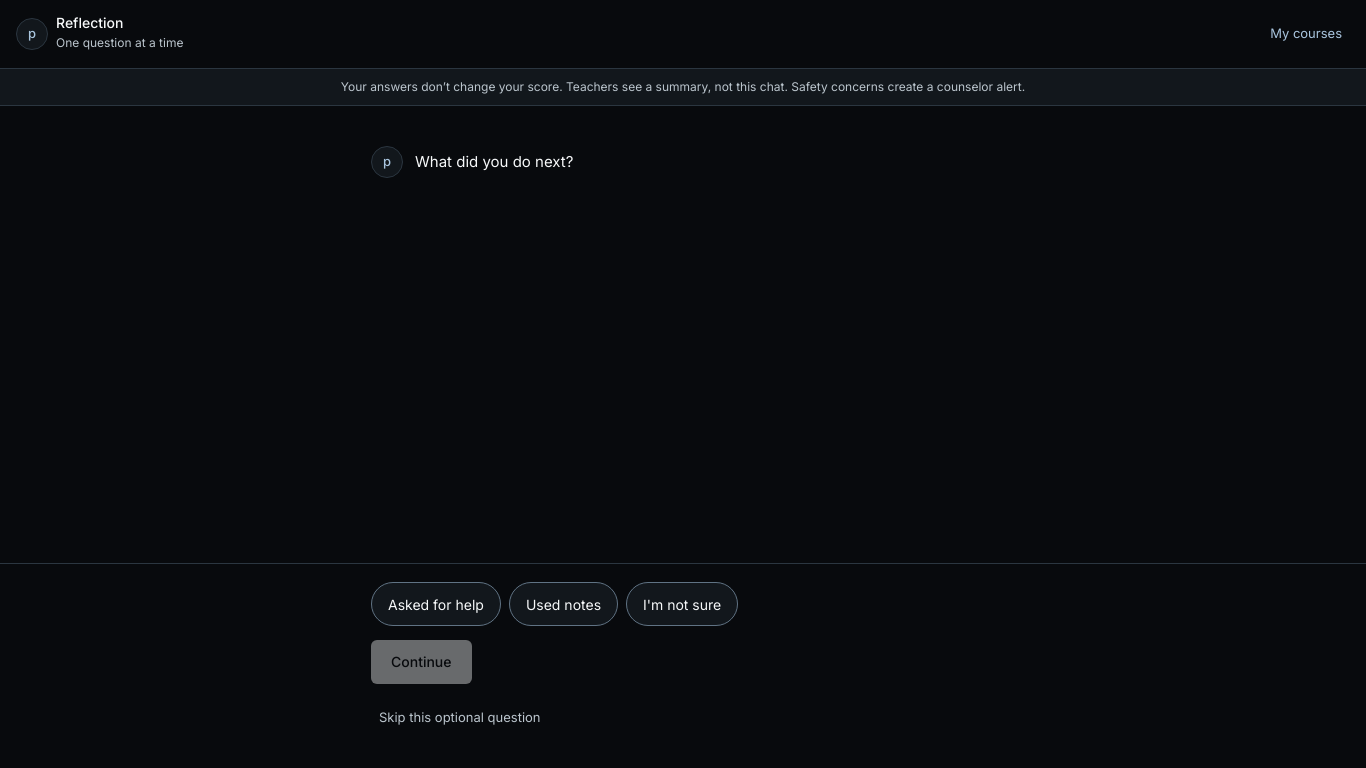
Test case: ChatFlow › supports multi-select and submits the chosen observations together
Click the button "Asked for help" at (436, 604), box [371,582,501,626]
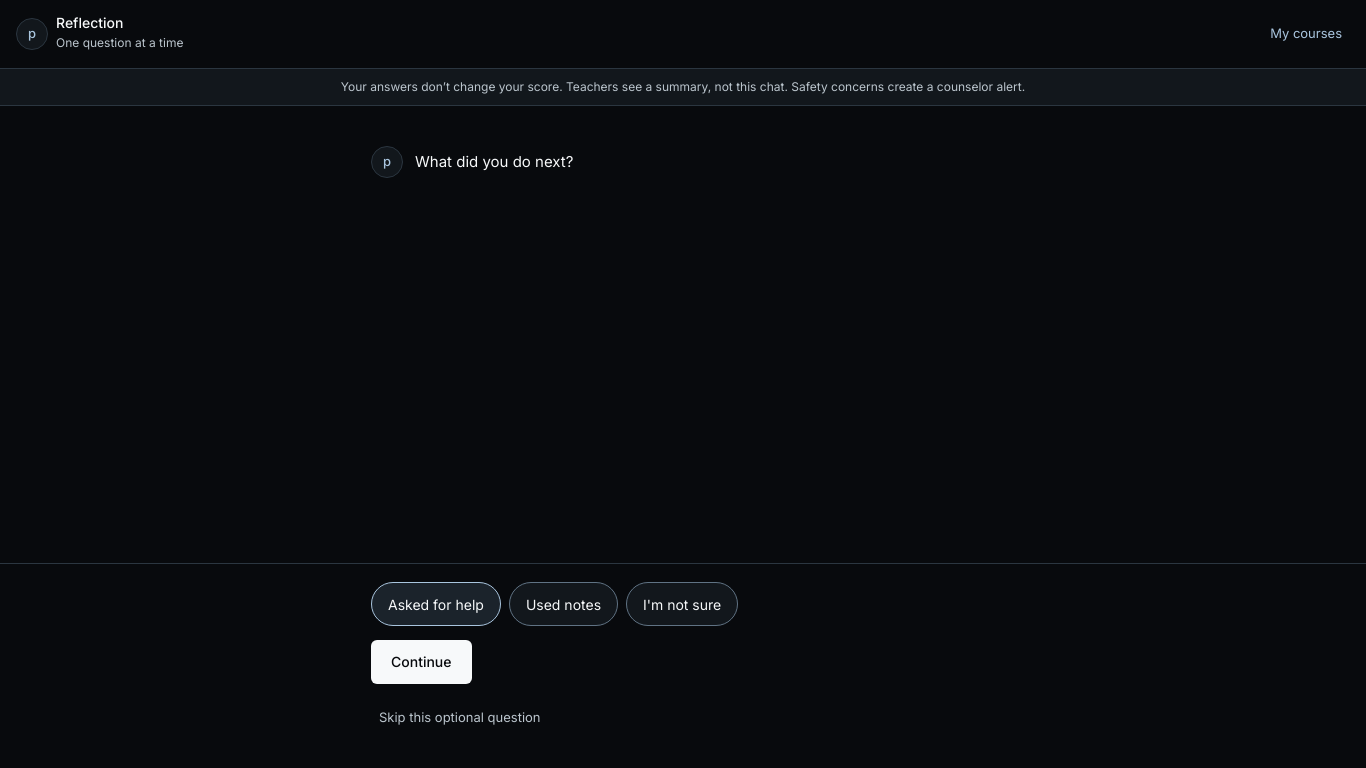
Click the button "Used notes" at (563, 604), box [509,582,618,626]
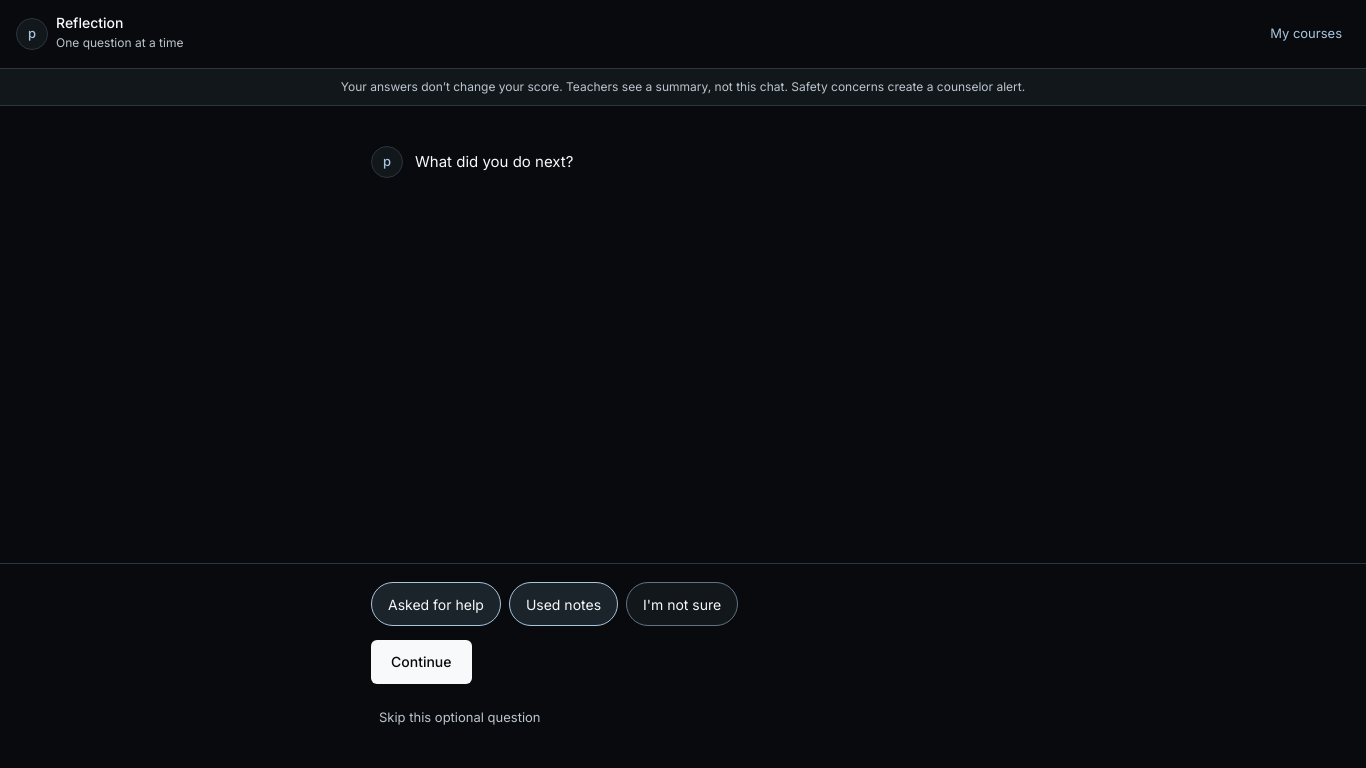
Check: the button "Asked for help" is pressed, box [371,582,501,626]
Click the button "Continue" at (421, 662), box [371,640,472,684]
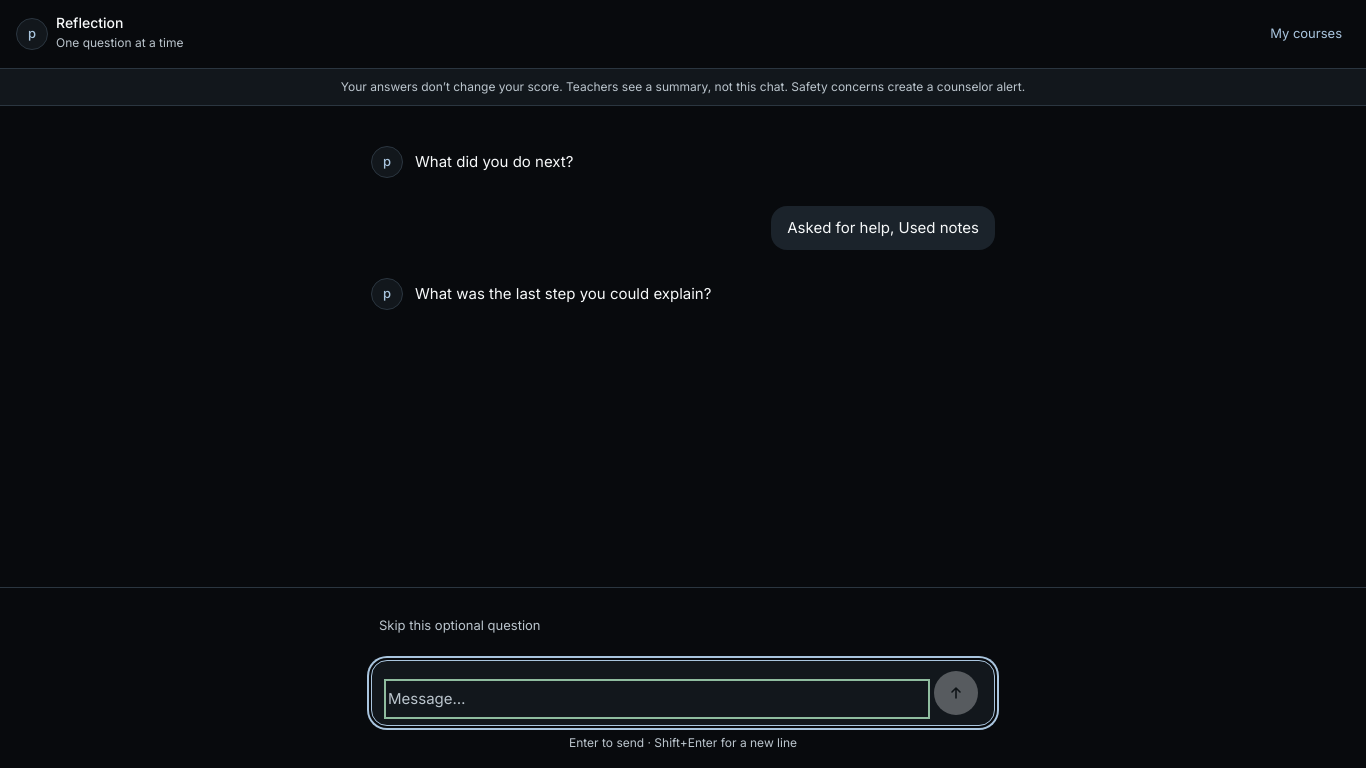
Check: the text box labelled "Message" is shown, box [388,683,926,715]
